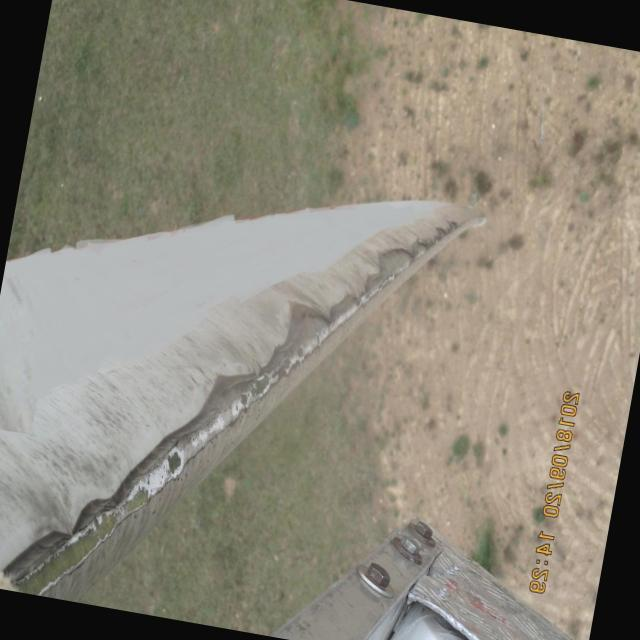crack: (8, 409, 179, 599), (189, 288, 338, 450), (351, 208, 461, 314)
